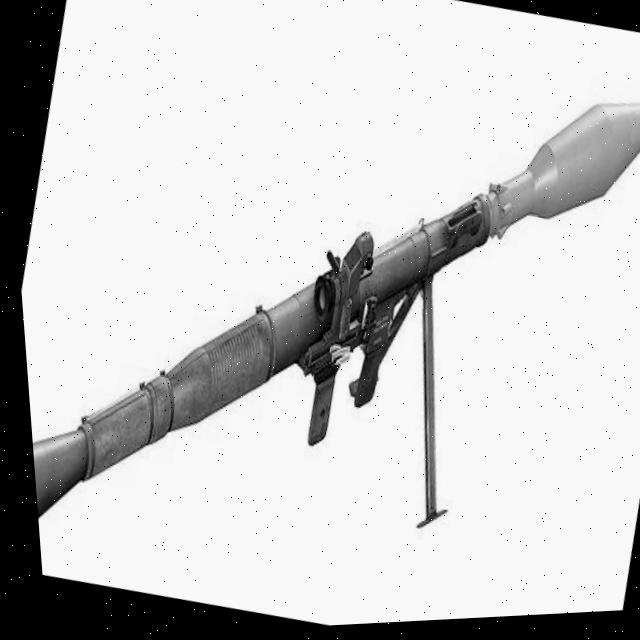grenade: (472, 64, 640, 276)
rocket: (7, 98, 514, 640)
